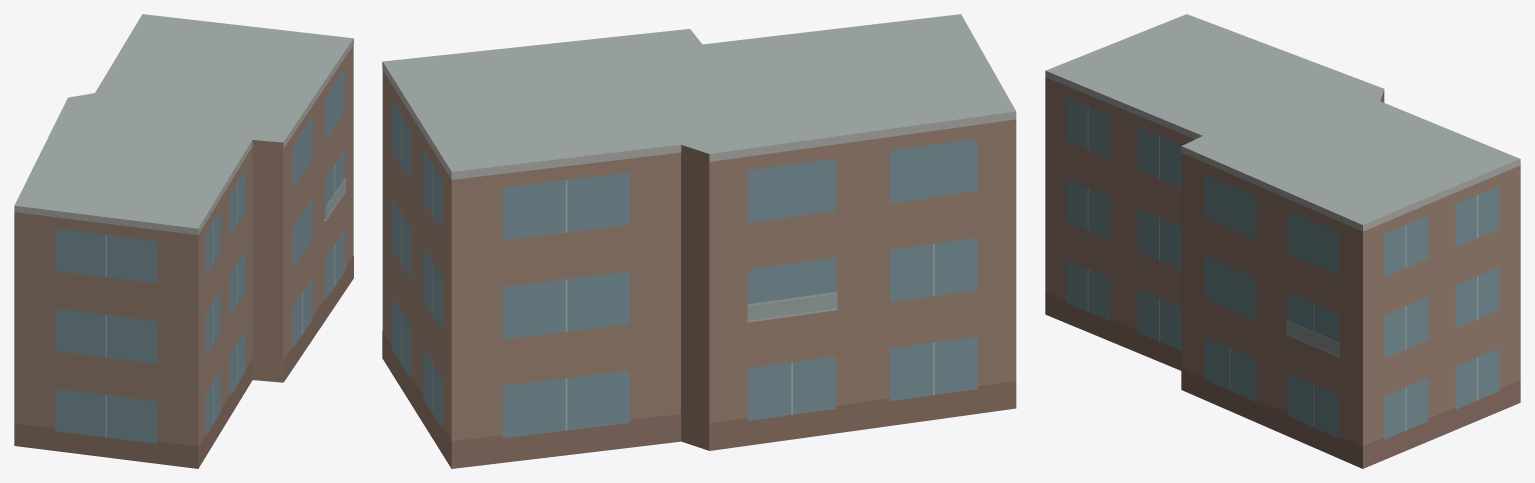
File: survey-upis-32689292.glb
3 views of the same model, side by side, from view 1: azimuth 30°, elevation 25°; view 2: azimuth 150°, elevation 25°; view 3: azimuth 270°, elevation 25° (orthographic). The views are drawn at different scales.
Visible parts, largest first — view 1: survey-upis-32689292.tmp; view 2: survey-upis-32689292.tmp; view 3: survey-upis-32689292.tmp.
Boxes of the visible parts, bbox=[...] form: survey-upis-32689292.tmp: bbox=[14, 14, 353, 468]; survey-upis-32689292.tmp: bbox=[382, 14, 1016, 468]; survey-upis-32689292.tmp: bbox=[1045, 14, 1520, 468].
Bounding box in the file's own units: 17 × 9.15 × 16.17.
